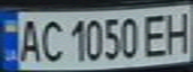0: (118, 13, 142, 60), (84, 16, 106, 62)
1: (63, 16, 87, 62)
5: (103, 15, 124, 61)
A: (15, 16, 45, 63)
C: (36, 16, 66, 63)
E: (139, 11, 172, 58)
H: (160, 8, 193, 55)
